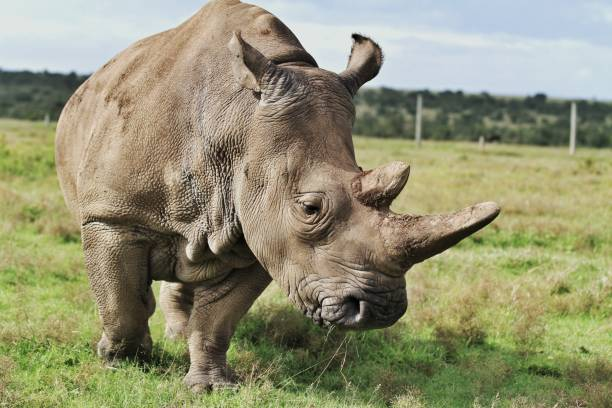rhino: (203, 20, 516, 340)
